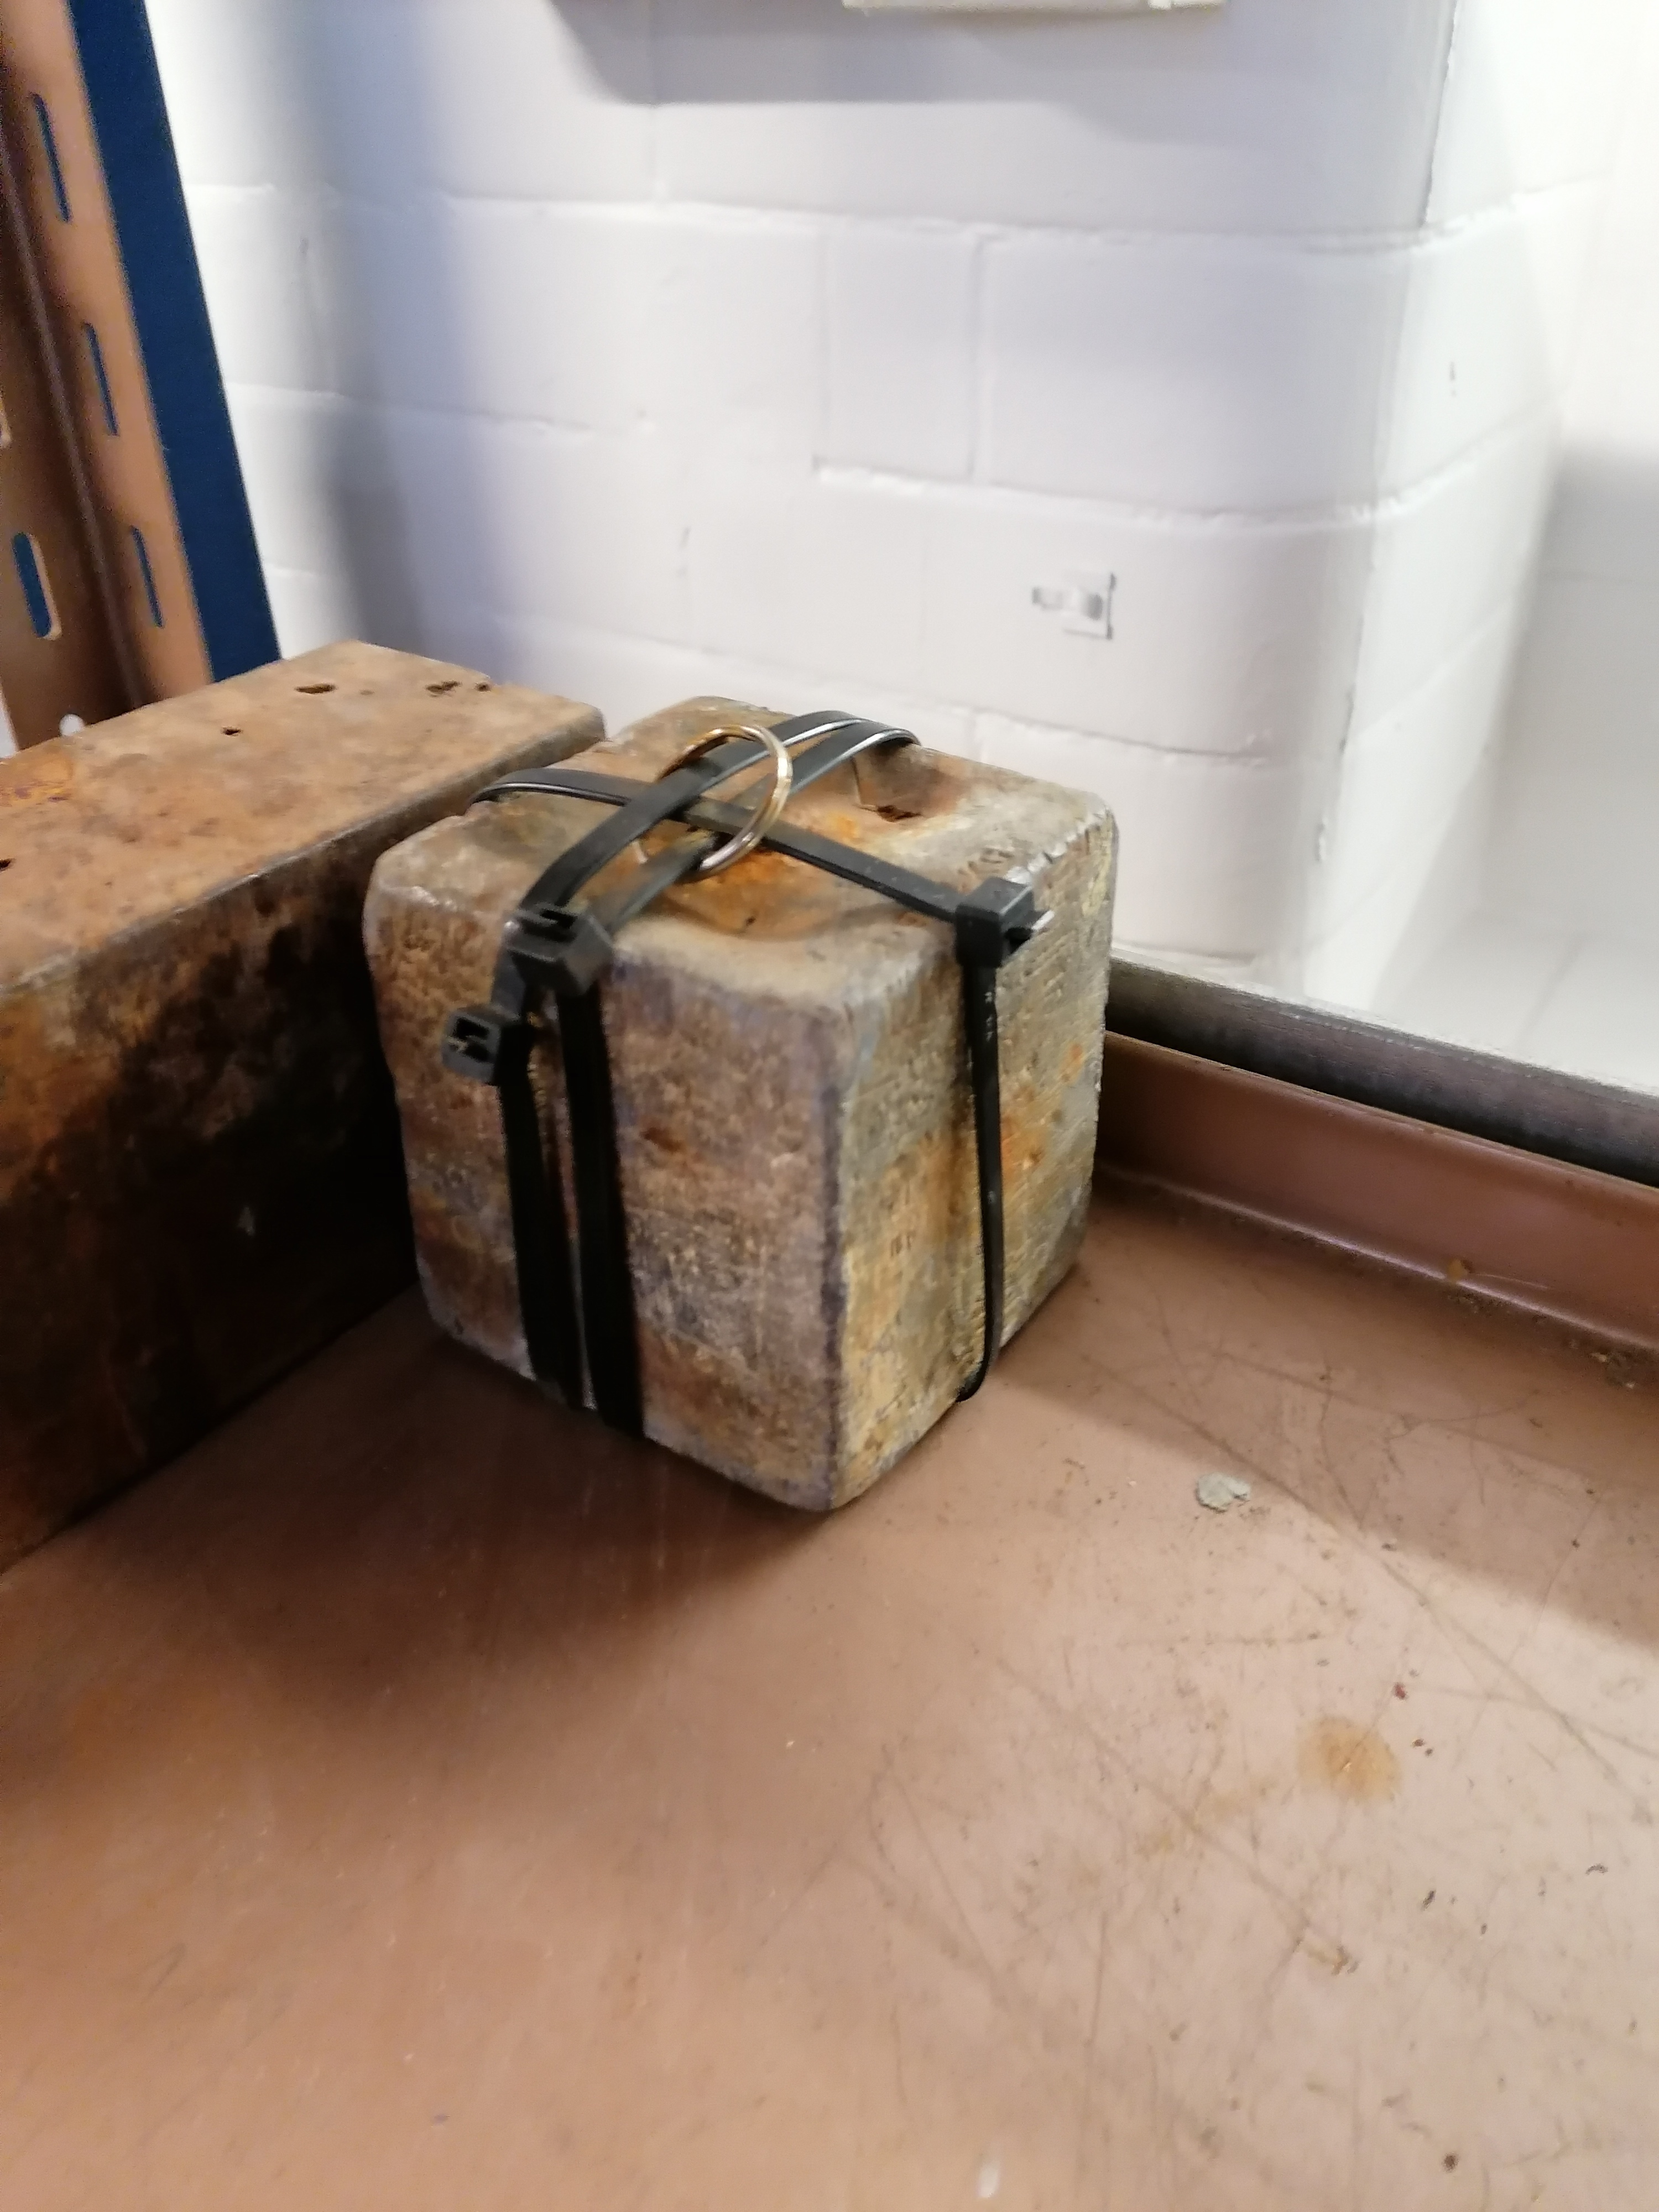lead_block: (362, 688, 1126, 1521), (0, 631, 603, 1585)
